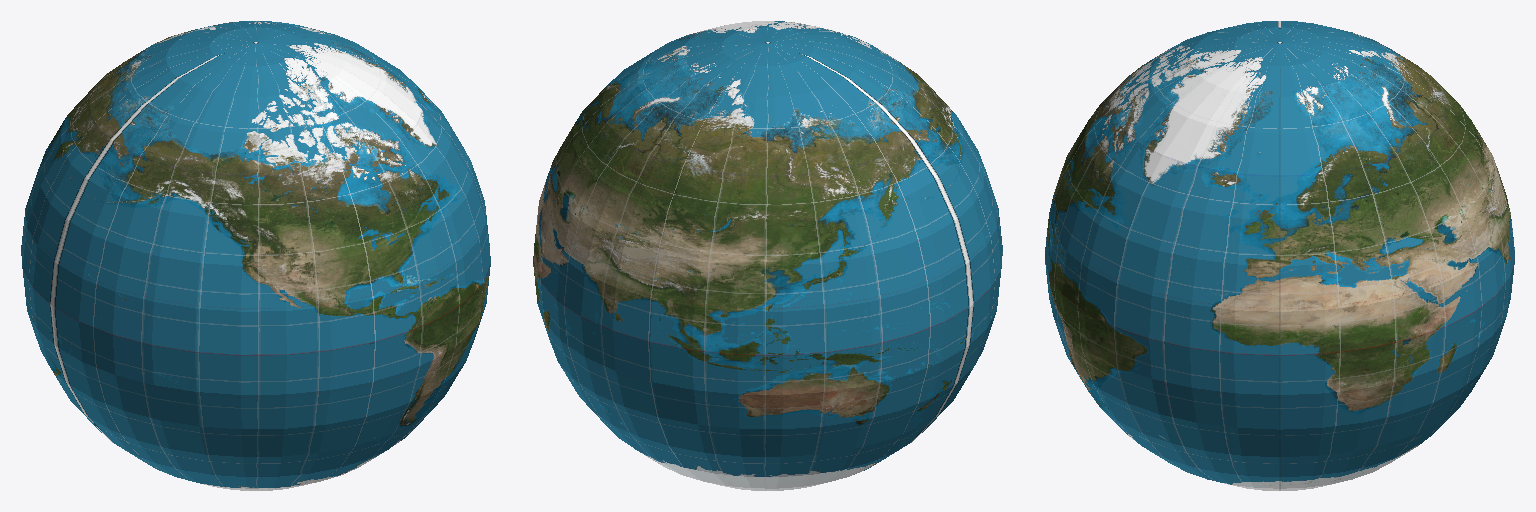
3 renders of one model, left to right at view 1: azimuth 30°, elevation 25°; view 2: azimuth 150°, elevation 25°; view 3: azimuth 270°, elevation 25°, orthographic.
Parts seen in each view (by area): view 1: Sphere; view 2: Sphere; view 3: Sphere.
Part boxes in pixels (left/top/right/bottom): Sphere: left=21, top=21, right=490, bottom=490; Sphere: left=533, top=21, right=1002, bottom=490; Sphere: left=1045, top=21, right=1514, bottom=490.
Size of the model in its own units: 2 by 2 by 2.
Materials: 1 (1 with a texture image).